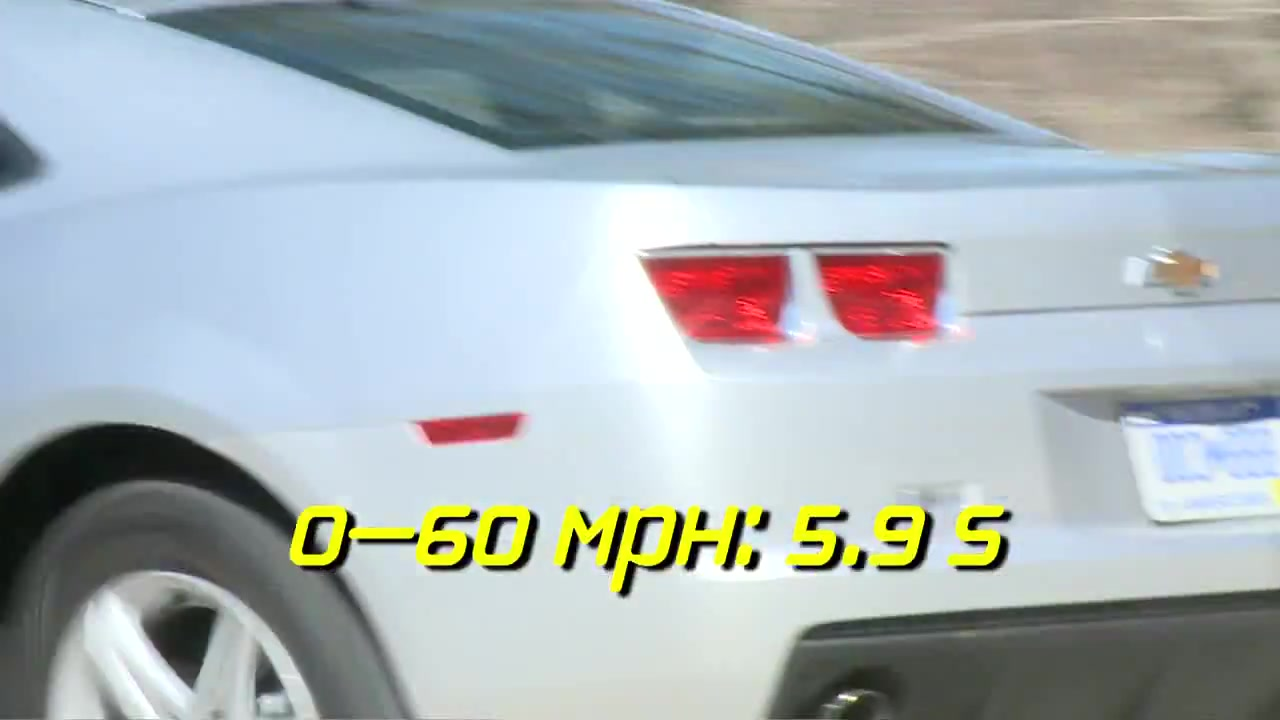car: (1, 1, 1280, 720)
